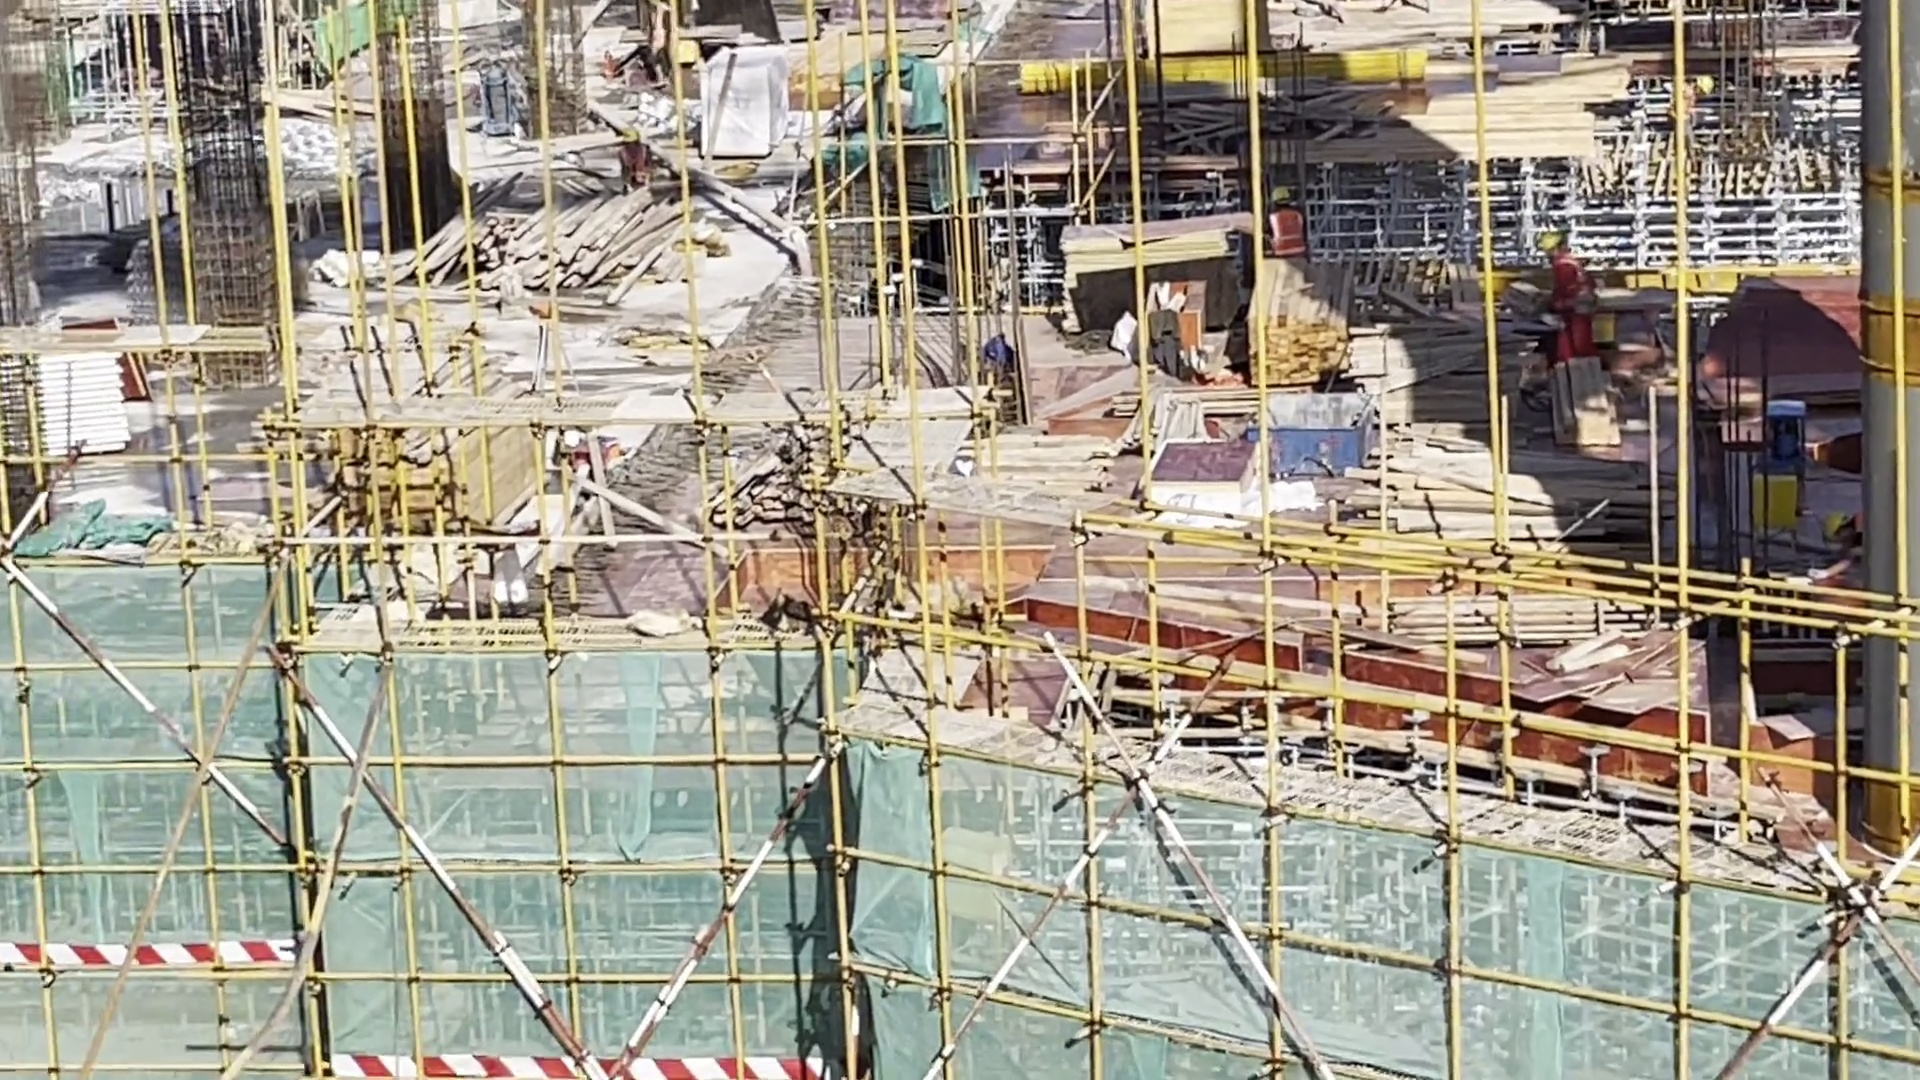ebox: (1729, 453, 1807, 541)
helmet: (1534, 229, 1564, 260), (1270, 182, 1287, 202)
hopper: (1255, 390, 1388, 472)
person: (1525, 226, 1588, 367), (614, 130, 654, 178)
vest: (1550, 263, 1582, 322), (1269, 210, 1311, 255), (623, 148, 651, 177)
wood: (451, 186, 660, 329), (338, 426, 556, 533), (1245, 265, 1362, 393)
